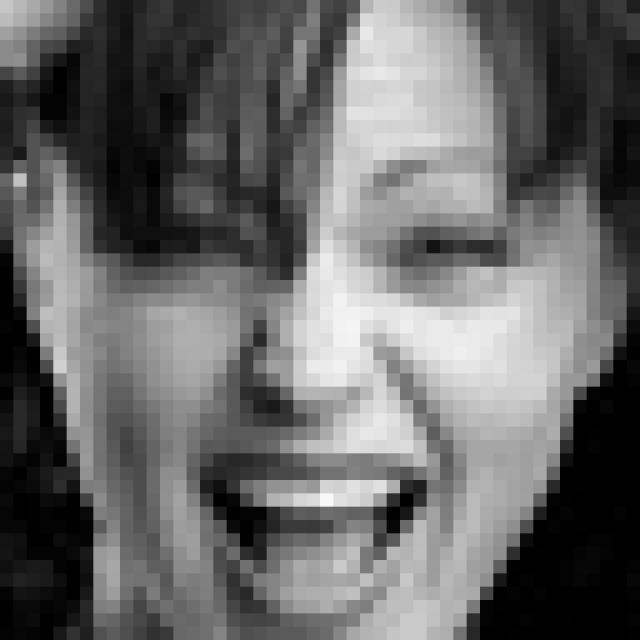angry: (111, 146, 540, 624)
